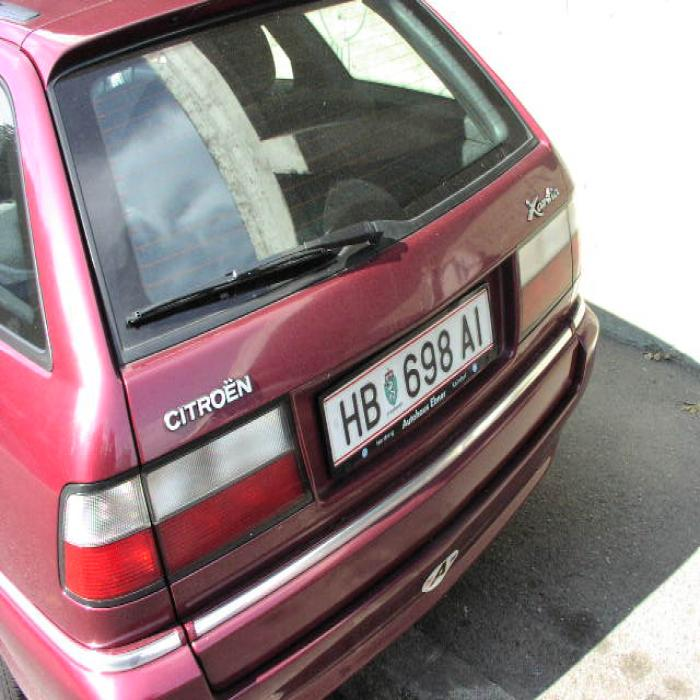number_plate: (330, 290, 488, 464)
